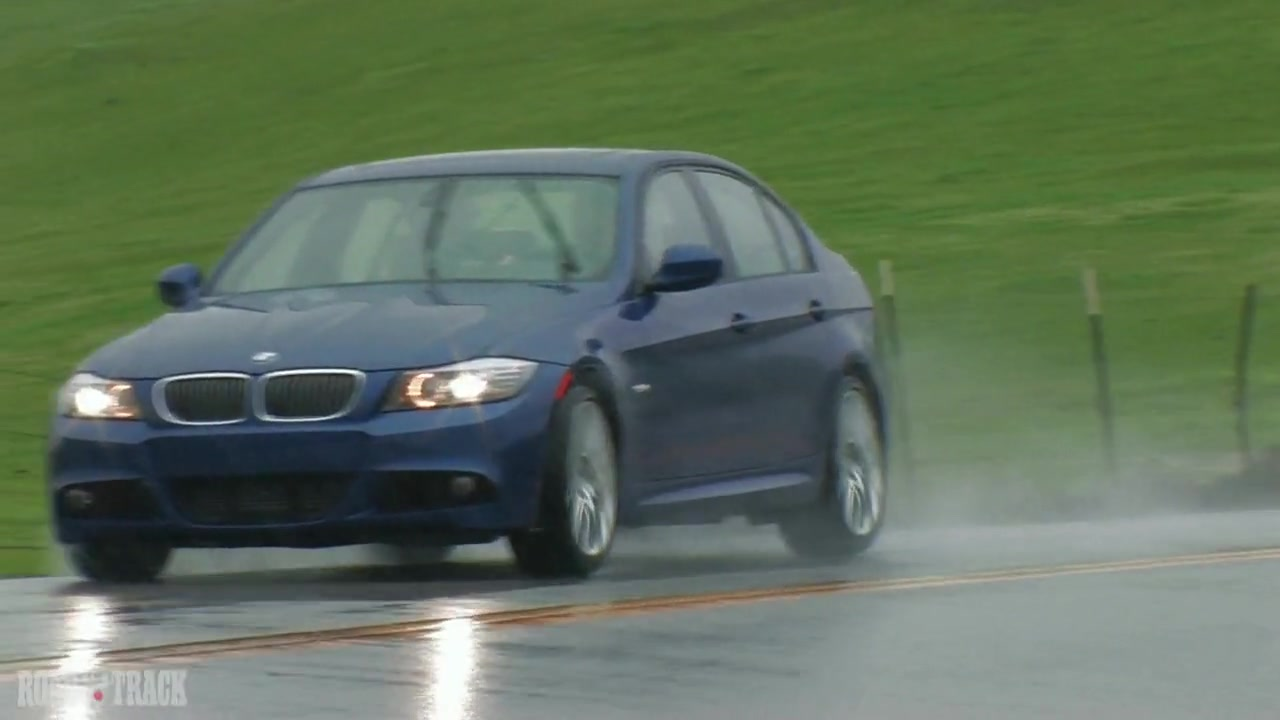car: (45, 150, 897, 586)
